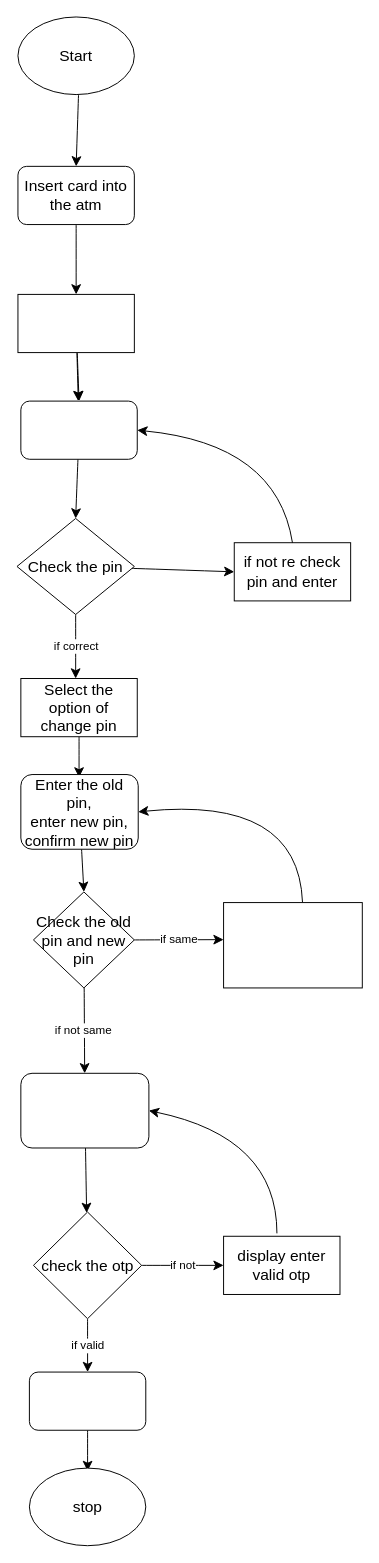
Image size: 379x1563. Some labels were removed from this diagram. Each missing label, with the centre of its shape:
"check the emv chip" goes at (75,323).
"enter the otp which sent to registered phone number" goes at (84,1110).
"enter the pin" goes at (78,429).
"if they same display old and new pins are same enter other pin" goes at (292,945).
"Your pin is changed" goes at (87,1400).
